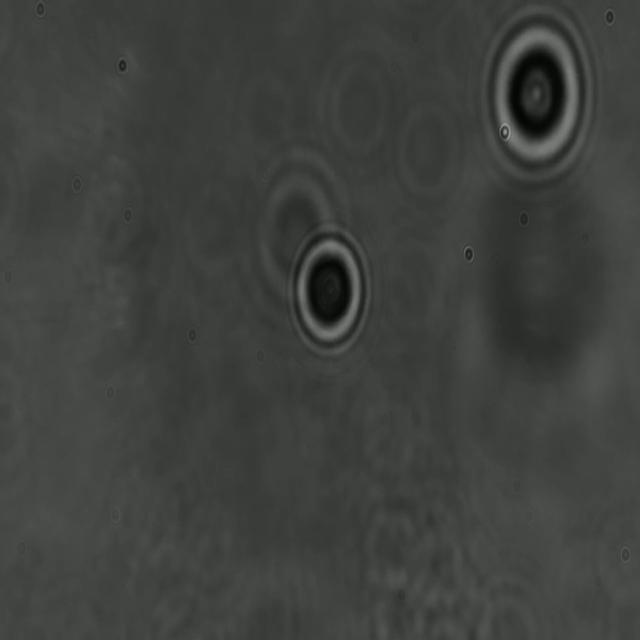DCELL: (283, 208, 379, 372)
LCELL: (472, 0, 600, 192)
